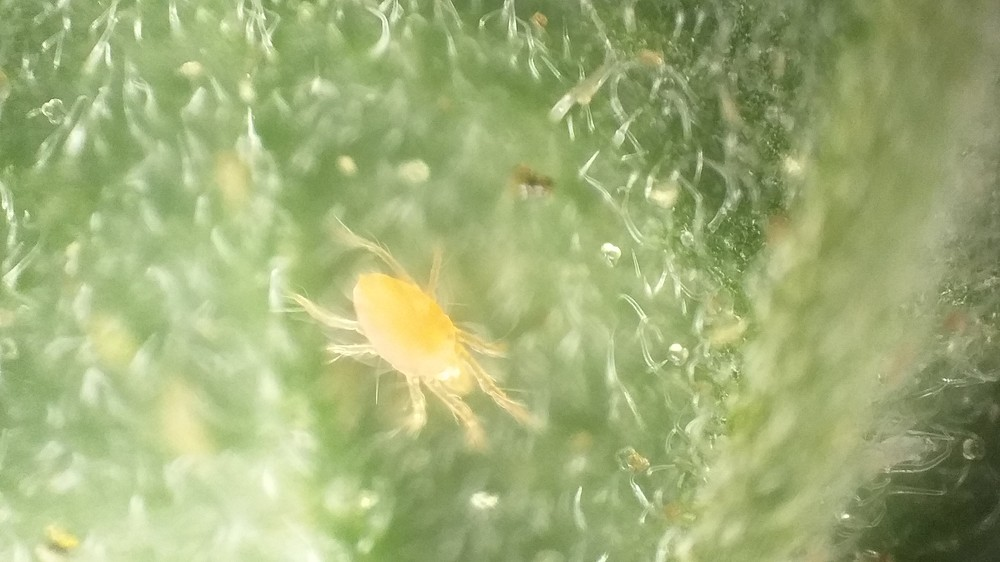Aracnido Rojo: (275, 209, 559, 463)
